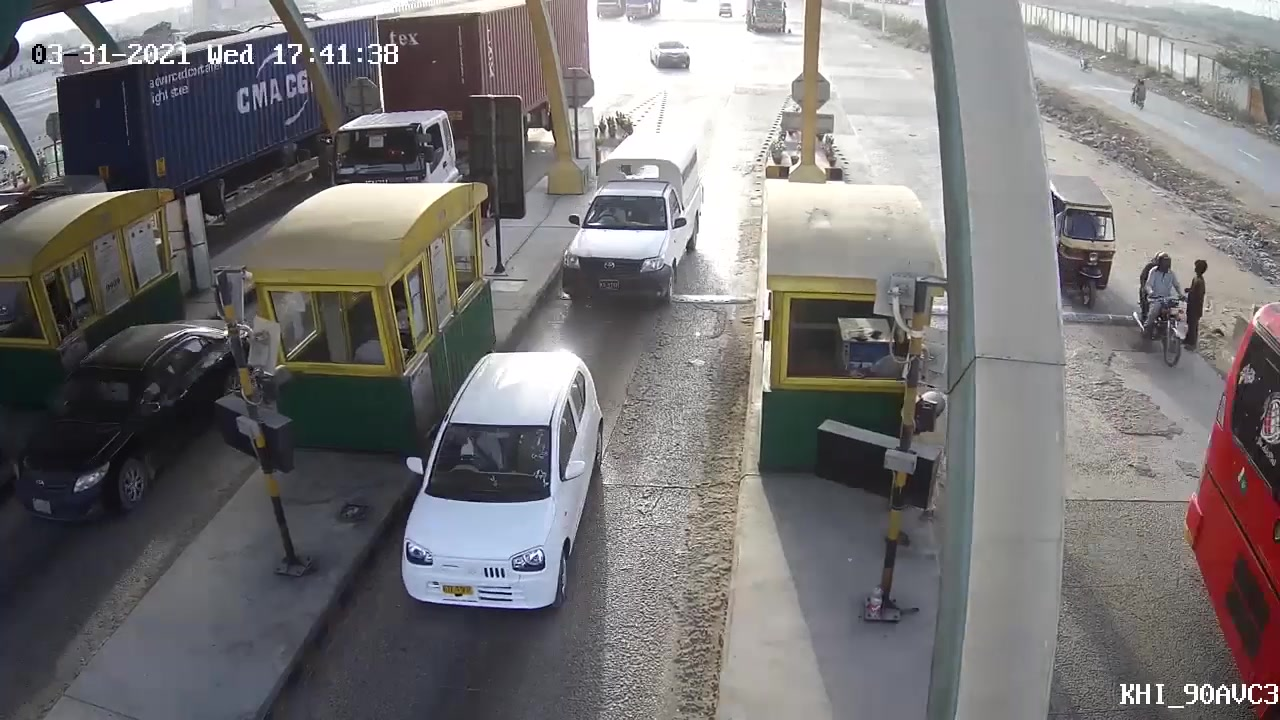F1: (369, 342, 620, 646), (550, 133, 707, 309)
